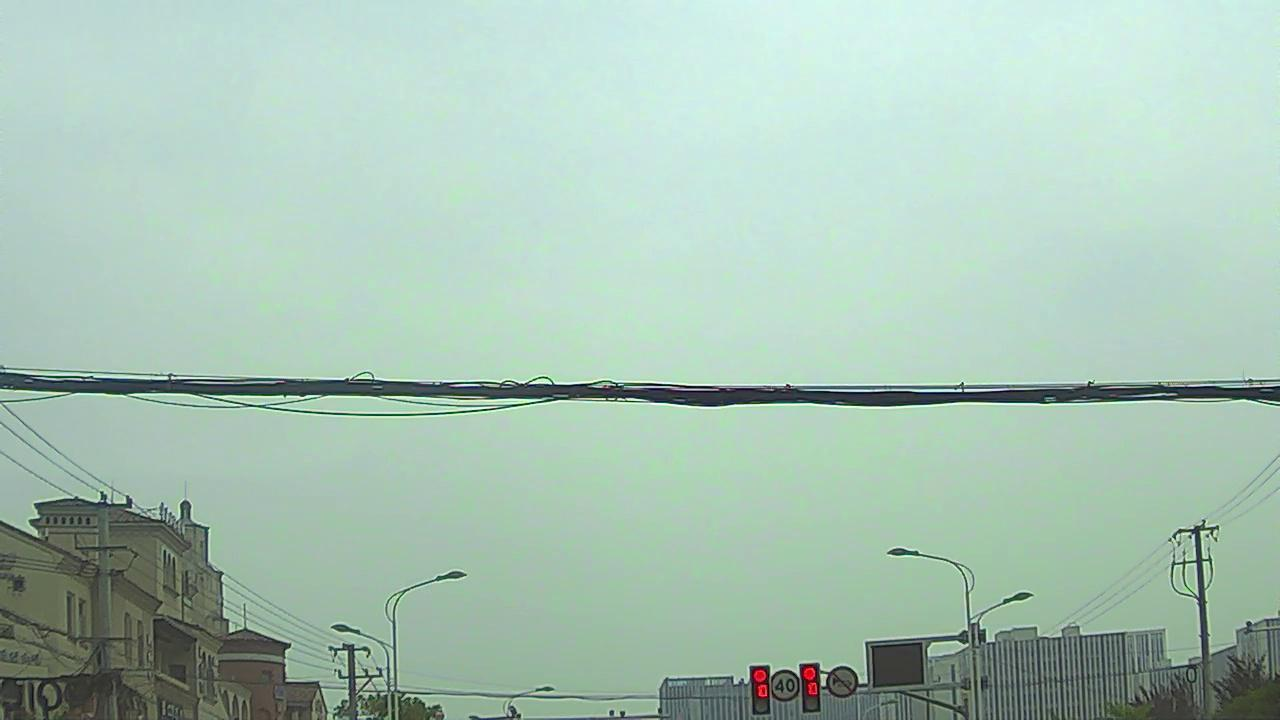traffic_light: (803, 664, 821, 711), (752, 665, 770, 711)
